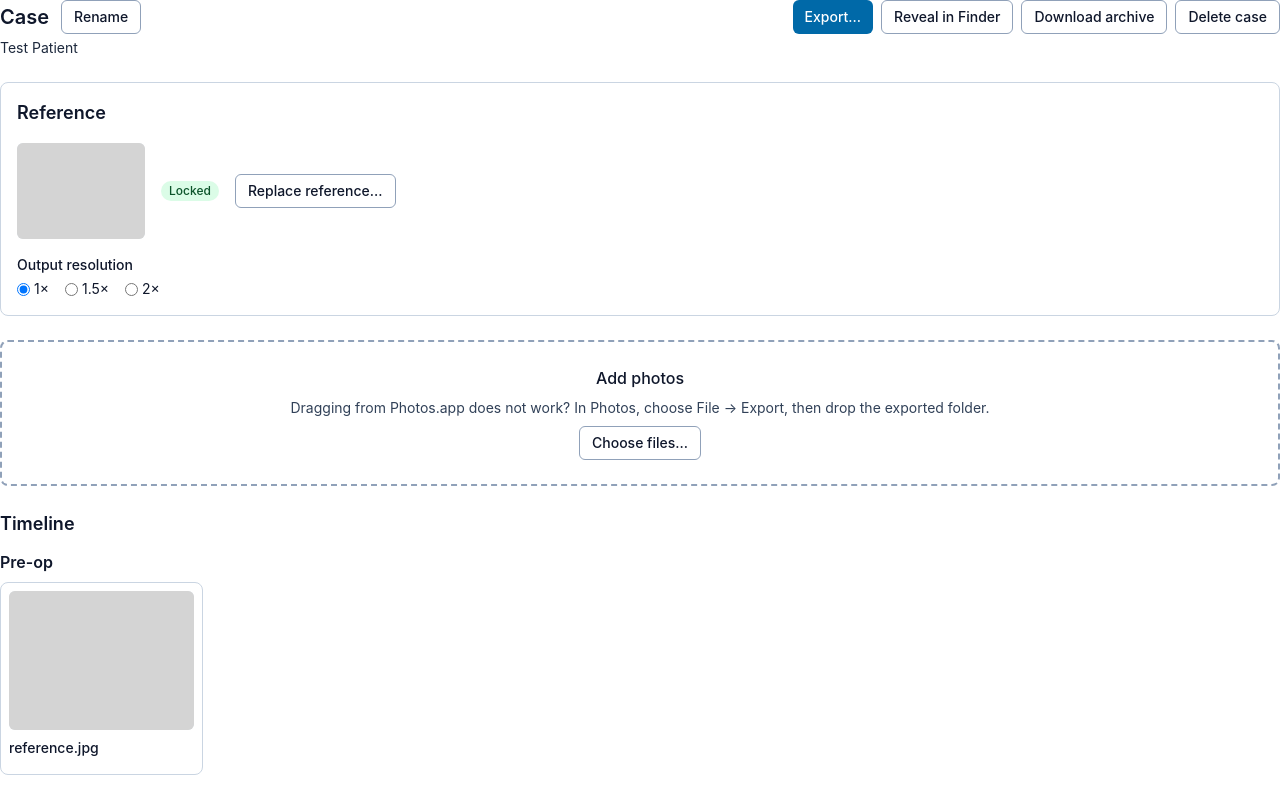
it: ProcedureScreen › opens the export dialog for the case
Click the button "Export…" at (833, 17), box [793,0,873,34]
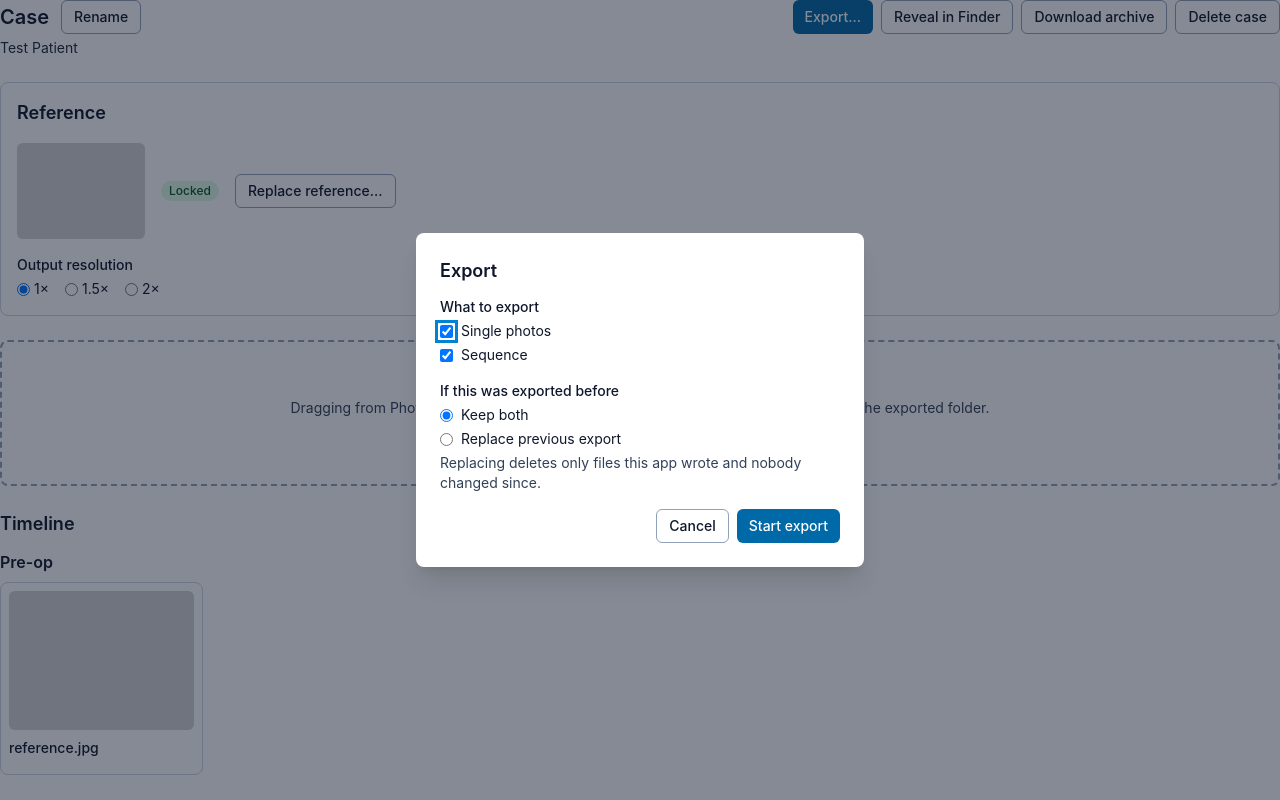
Result: the dialog "Export" is shown at [416,233,864,567]
